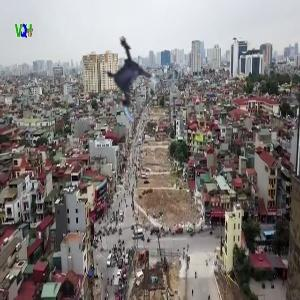drone: (94, 45, 173, 124)
